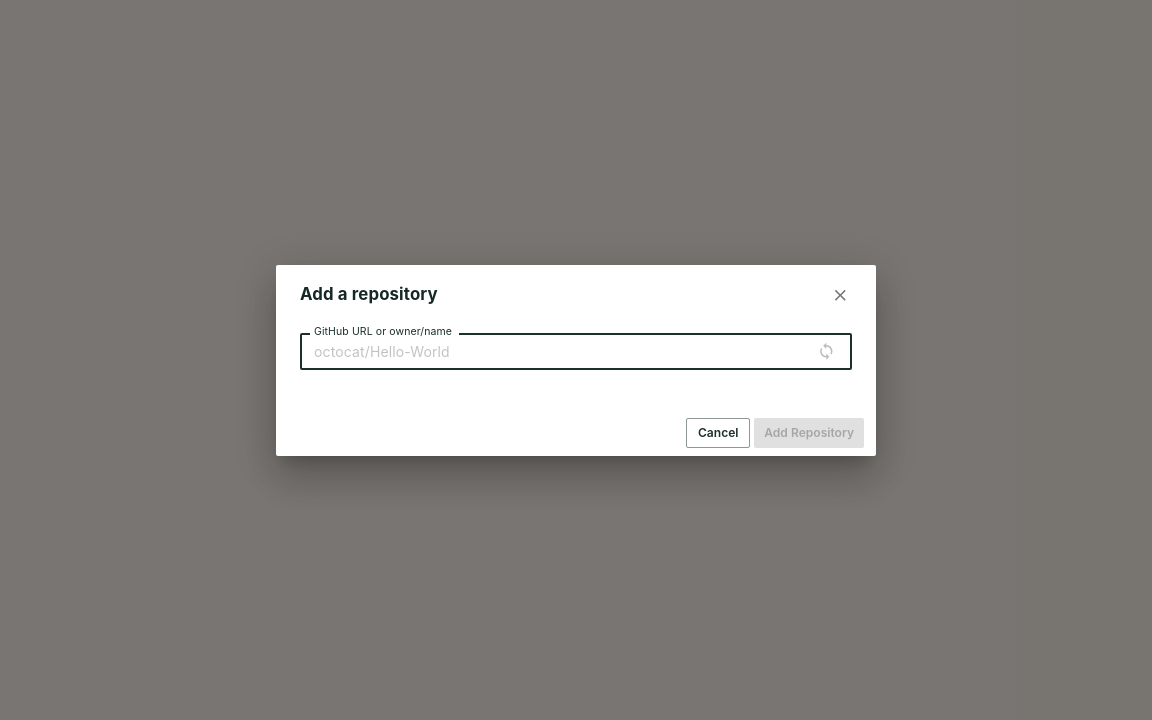
Scenario: AddRepoModal › surfaces a not-found/duplicate error inline
This screenshot has width=1152, height=720.
In the field labelled "GitHub URL or owner/name": (552, 352) [300,333,804,370], type "ghost/missing"
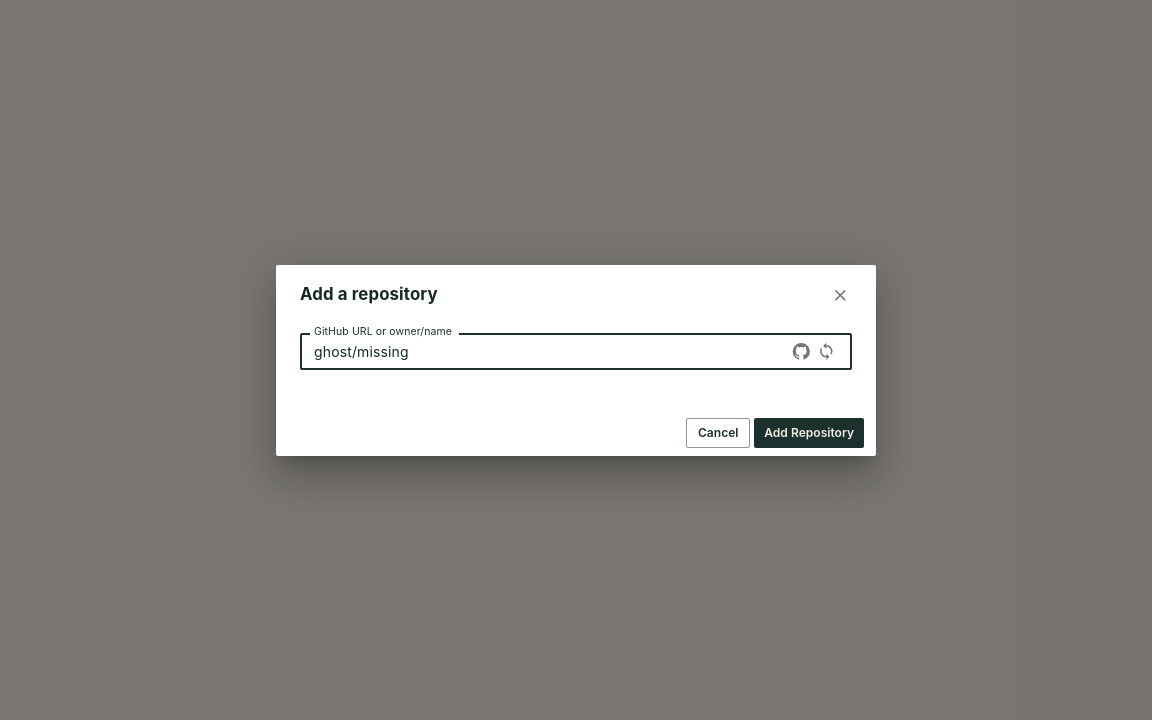
Click the button "Add Repository": (809, 433) [754,418,864,448]
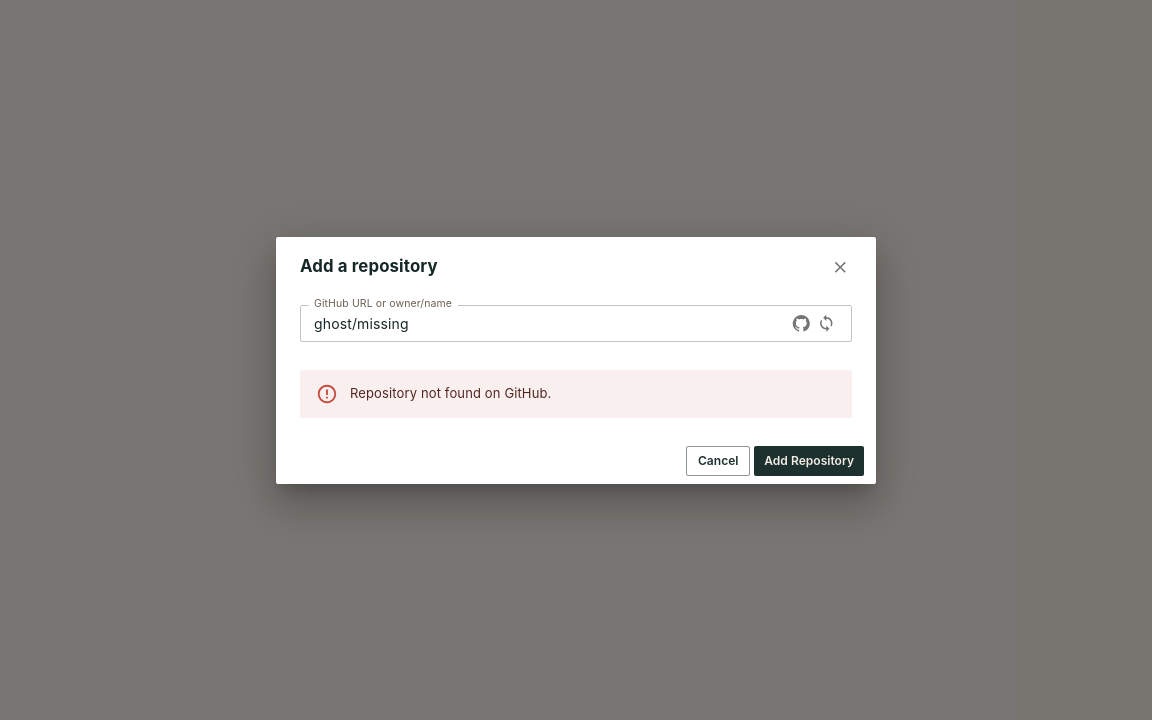
Now the message with test id "add-repo-error" shows "not found", box [350,385,552,401]
